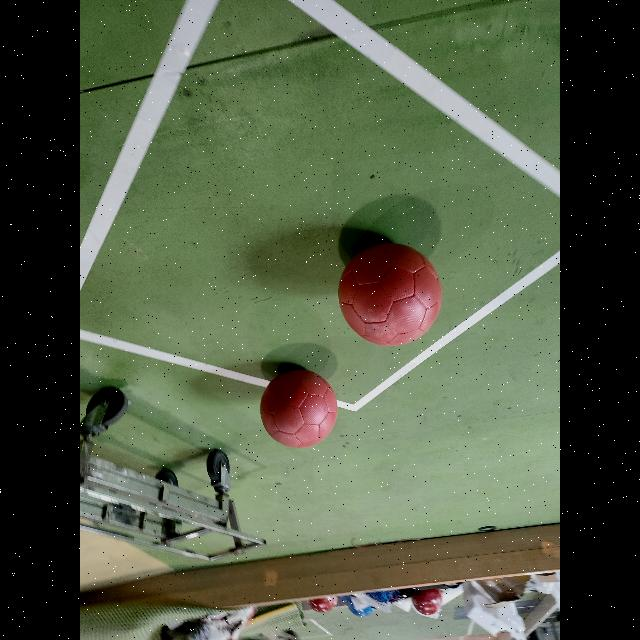R: (338, 244, 442, 346), (260, 370, 338, 448)
